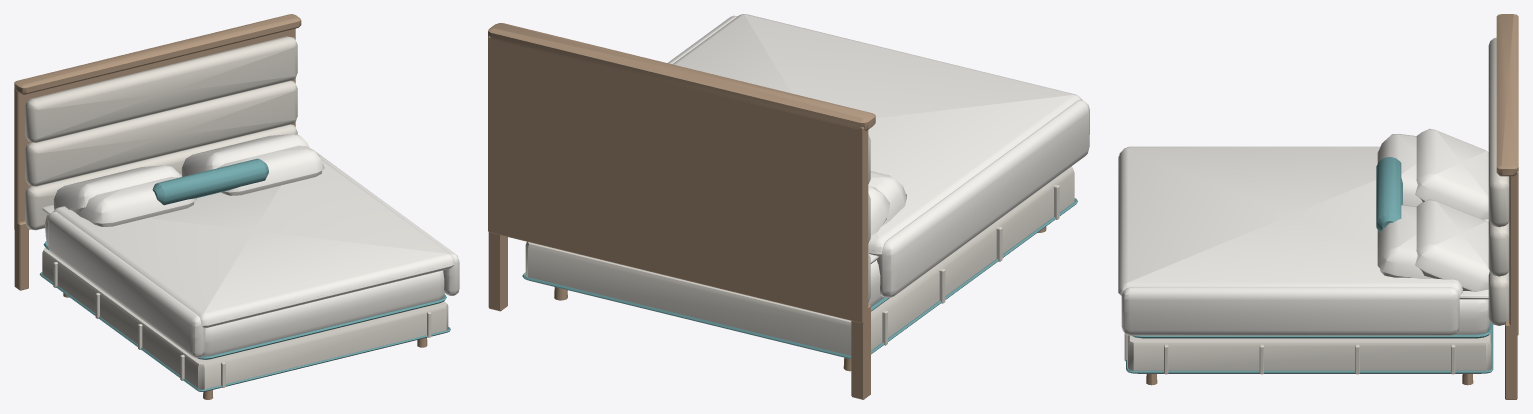
The model's file is hotel-and-resort-operations-bed-king-made-flat-1c9a024d__25741.glb.
3 views of the same model, side by side, from view 1: azimuth 30°, elevation 25°; view 2: azimuth 150°, elevation 25°; view 3: azimuth 270°, elevation 25° (orthographic). The views are drawn at different scales.
Parts seen in each view (by area): view 1: bed-king-made-flat; view 2: bed-king-made-flat; view 3: bed-king-made-flat.
Part boxes in pixels (x1,y1,x2,y2): bed-king-made-flat: [14, 14, 459, 399]; bed-king-made-flat: [488, 14, 1089, 399]; bed-king-made-flat: [1118, 14, 1518, 399].
Bounding box in the file's own units: 2.02 × 1.42 × 2.2.
